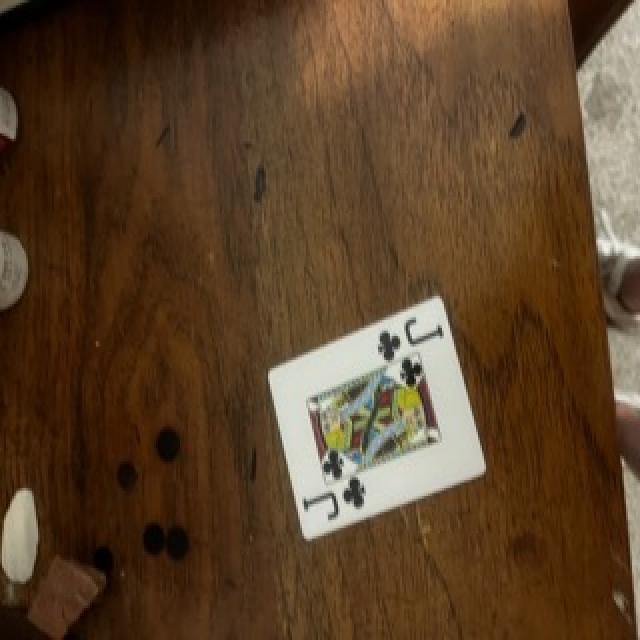Jack of clubs: (269, 297, 485, 540)
